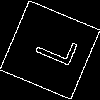L: (25, 25, 78, 69)
